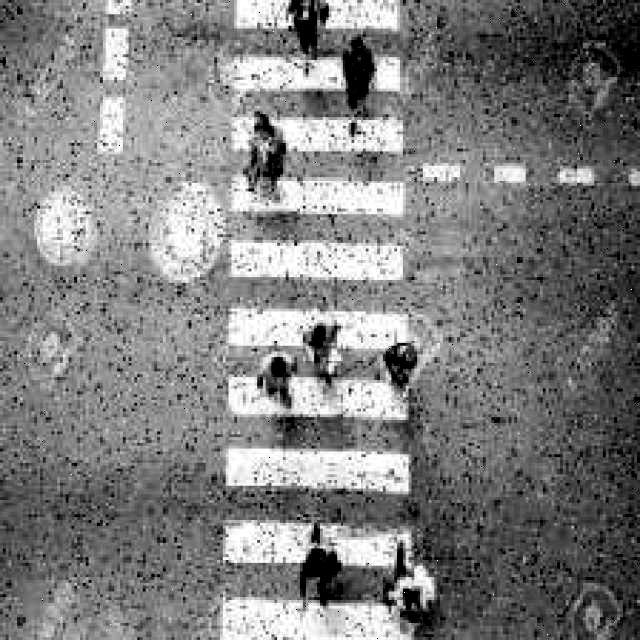crosswalk: (220, 0, 422, 640)
